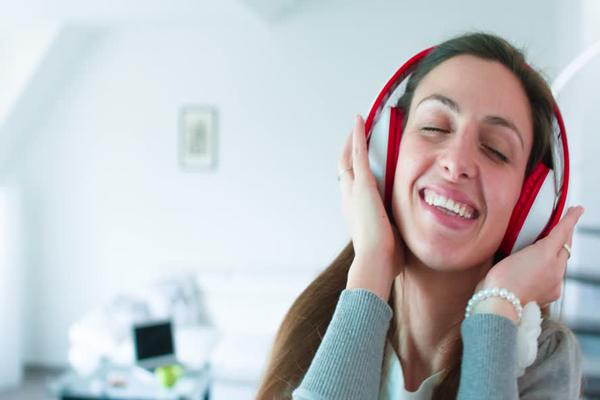headphone: (299, 25, 584, 293)
